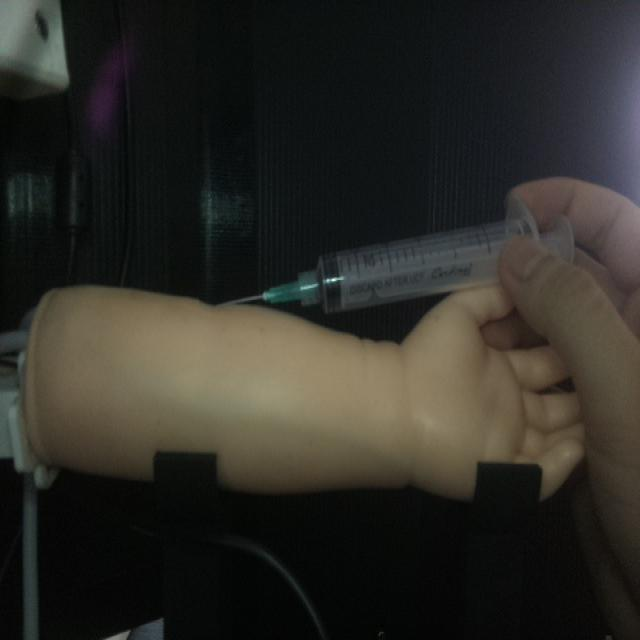Below 15 degrees: (219, 196, 575, 317)
